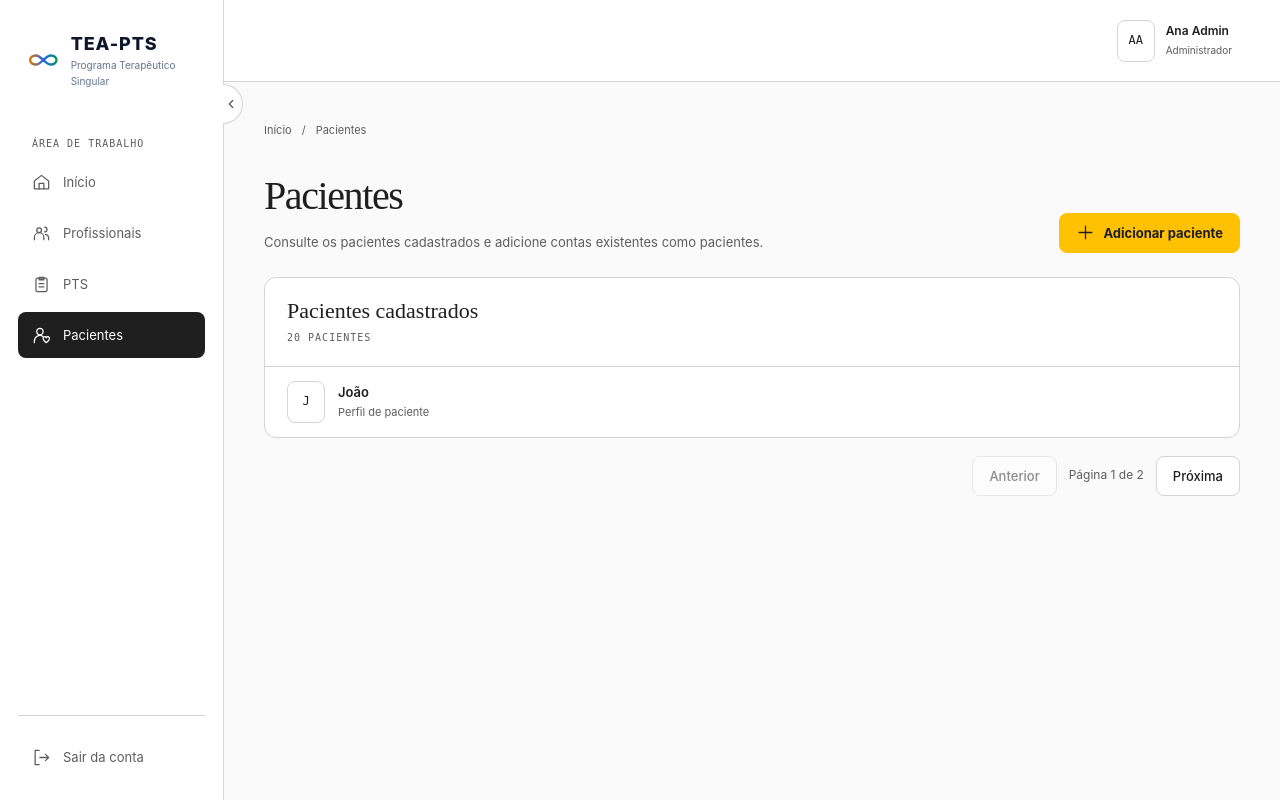
Test: PatientsPage › acesso e lista › pagina a lista
This screenshot has width=1280, height=800.
Expected: the text "Página 1 de 2" is shown, x1=1069 y1=466 x2=1144 y2=485
What coordinates should you click on to do the following:
click the button "Próxima"
I would click on:
 (1198, 476)
Its box is x1=1156 y1=456 x2=1240 y2=496.
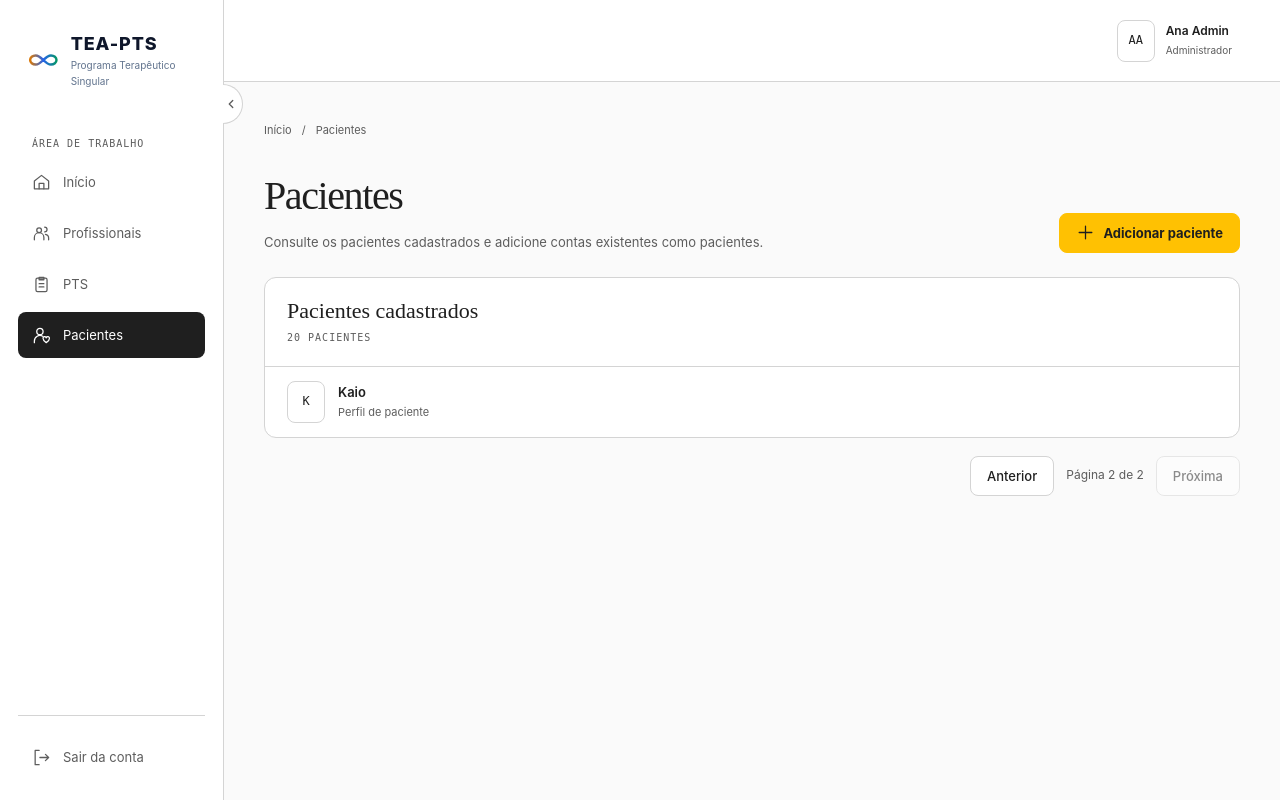
Now the text "Kaio" is shown, box x1=338 y1=384 x2=366 y2=400
Now the text "Página 2 de 2" is shown, box x1=1066 y1=466 x2=1144 y2=485
